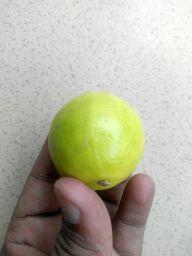lemon: (39, 80, 159, 197)
